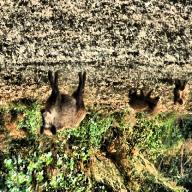boar: (42, 72, 96, 138), (115, 86, 163, 121), (169, 71, 191, 110)
